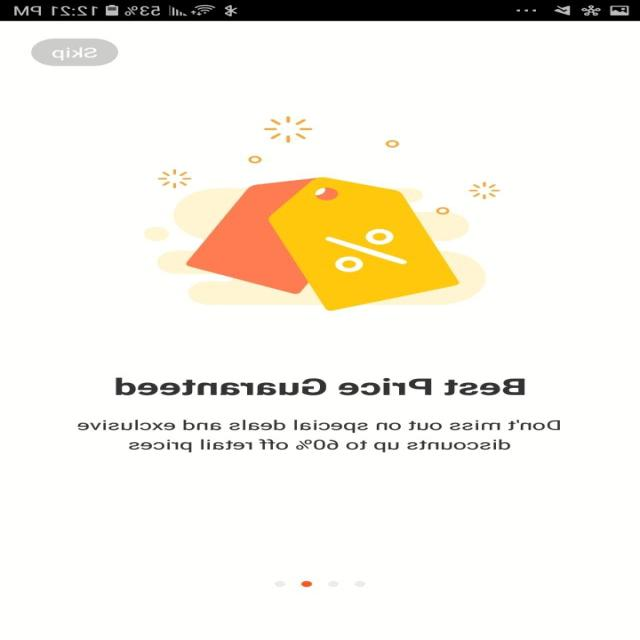Image: (144, 116, 502, 311)
Text: (78, 418, 561, 453), (116, 377, 524, 396)
TextButton: (31, 38, 119, 66)
